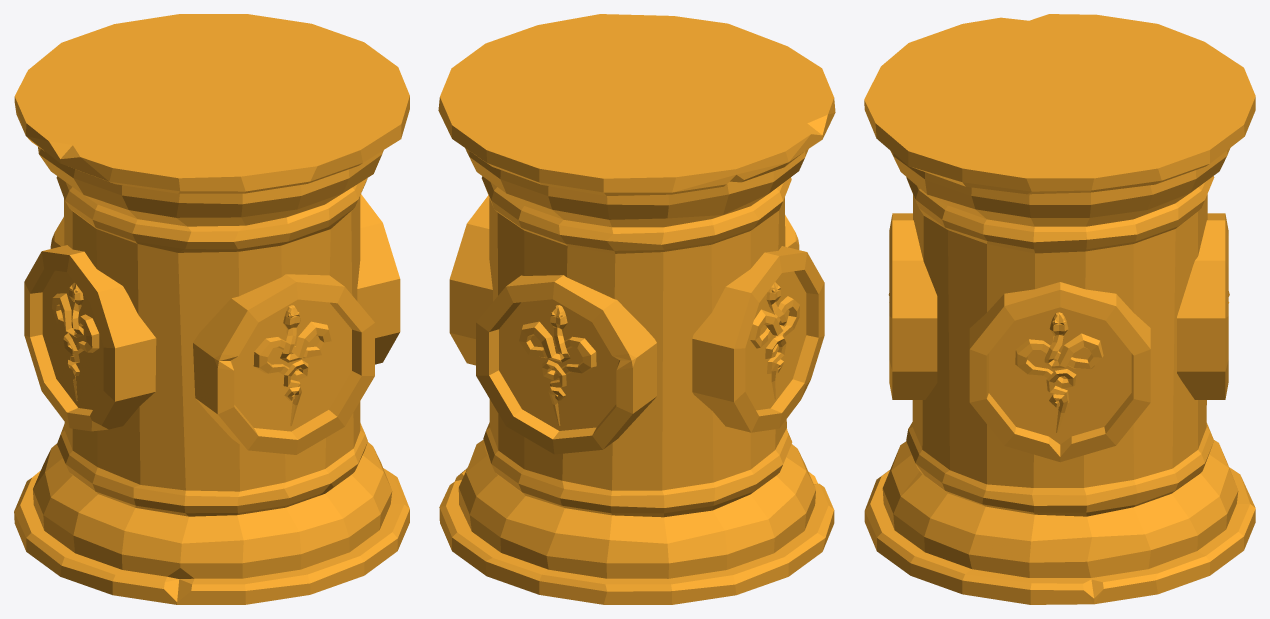
File: SM_Pedestal_Cylindrical_D_Fantasy.fbx
3 views of the same model, side by side, from view 1: azimuth 30°, elevation 25°; view 2: azimuth 150°, elevation 25°; view 3: azimuth 270°, elevation 25° (orthographic).
Parts seen in each view (by area): view 1: SM_Pedestal_Cylindrical_Fantasy_D; view 2: SM_Pedestal_Cylindrical_Fantasy_D; view 3: SM_Pedestal_Cylindrical_Fantasy_D.
Part boxes in pixels (x1,y1,x2,y2): SM_Pedestal_Cylindrical_Fantasy_D: [14, 14, 409, 604]; SM_Pedestal_Cylindrical_Fantasy_D: [438, 14, 835, 604]; SM_Pedestal_Cylindrical_Fantasy_D: [864, 14, 1255, 604].
Bounding box in the file's own units: 1 × 1.2 × 1.
